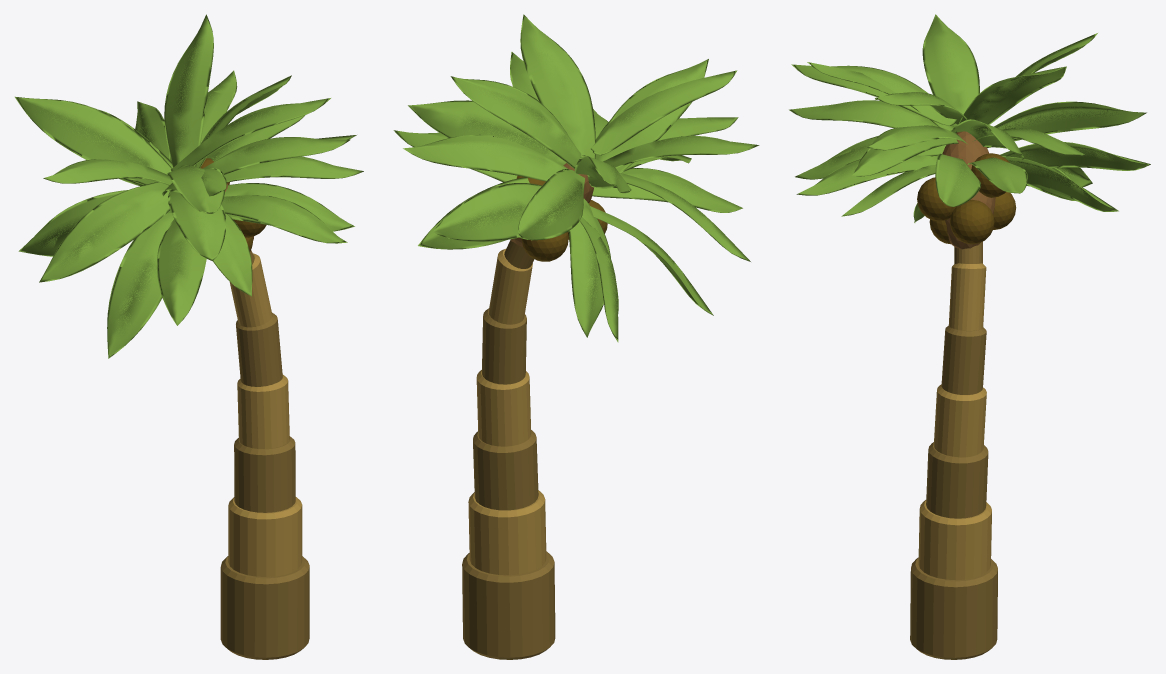
File: palma.fbx
The picture shows the model from 3 angles, left to right: view 1: azimuth 30°, elevation 25°; view 2: azimuth 150°, elevation 25°; view 3: azimuth 270°, elevation 25°; orthographic projection. The views are drawn at different scales.
Parts seen in each view (by area): view 1: Cylinder; view 2: Cylinder; view 3: Cylinder.
Boxes of the visible parts, <box> form: Cylinder: <box>15,14,363,659</box>; Cylinder: <box>393,14,759,659</box>; Cylinder: <box>789,14,1150,659</box>.
Size of the model in its own units: 832 by 1457 by 832.
